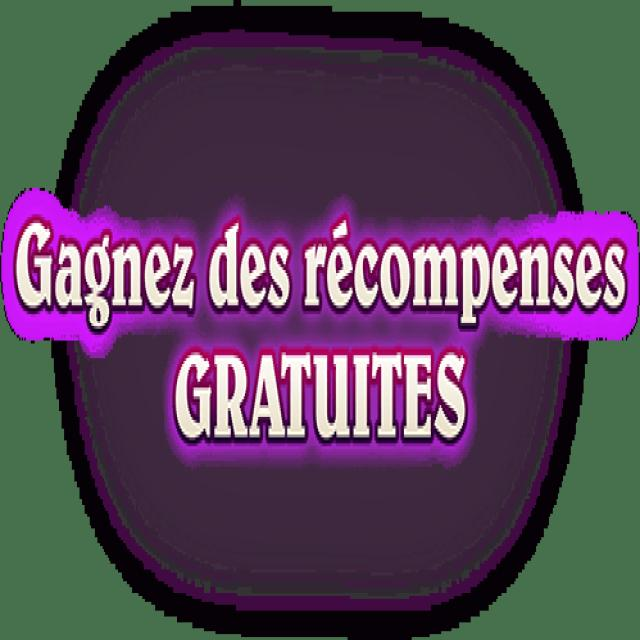Background Image: (1, 3, 636, 634)
Testimonial Quotes: (7, 197, 636, 449)
Text Elements: (302, 214, 628, 326), (172, 344, 468, 446), (14, 214, 196, 332), (207, 217, 291, 311)
